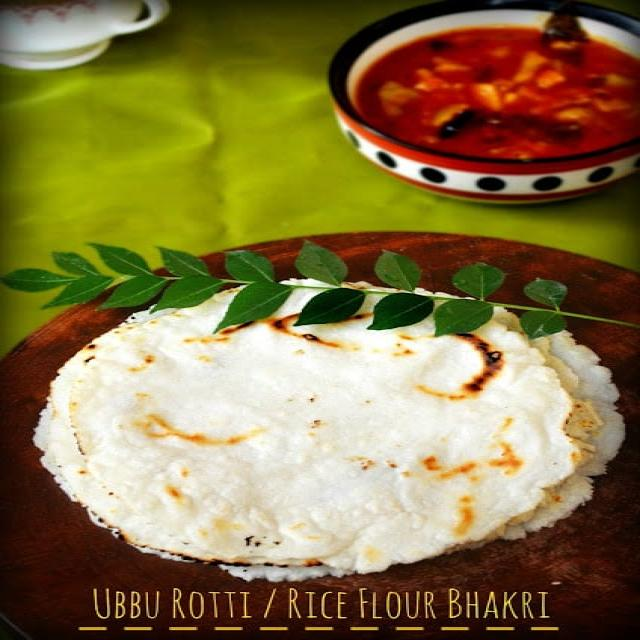RICE BHAKRI: (32, 287, 613, 569)
